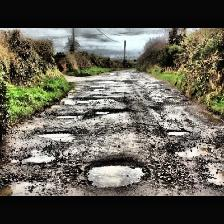pothole: (84, 158, 150, 188), (172, 144, 211, 156), (204, 164, 224, 186), (21, 150, 57, 162), (91, 108, 131, 114), (37, 131, 71, 137), (167, 129, 192, 135), (61, 98, 75, 104), (89, 86, 107, 90)
